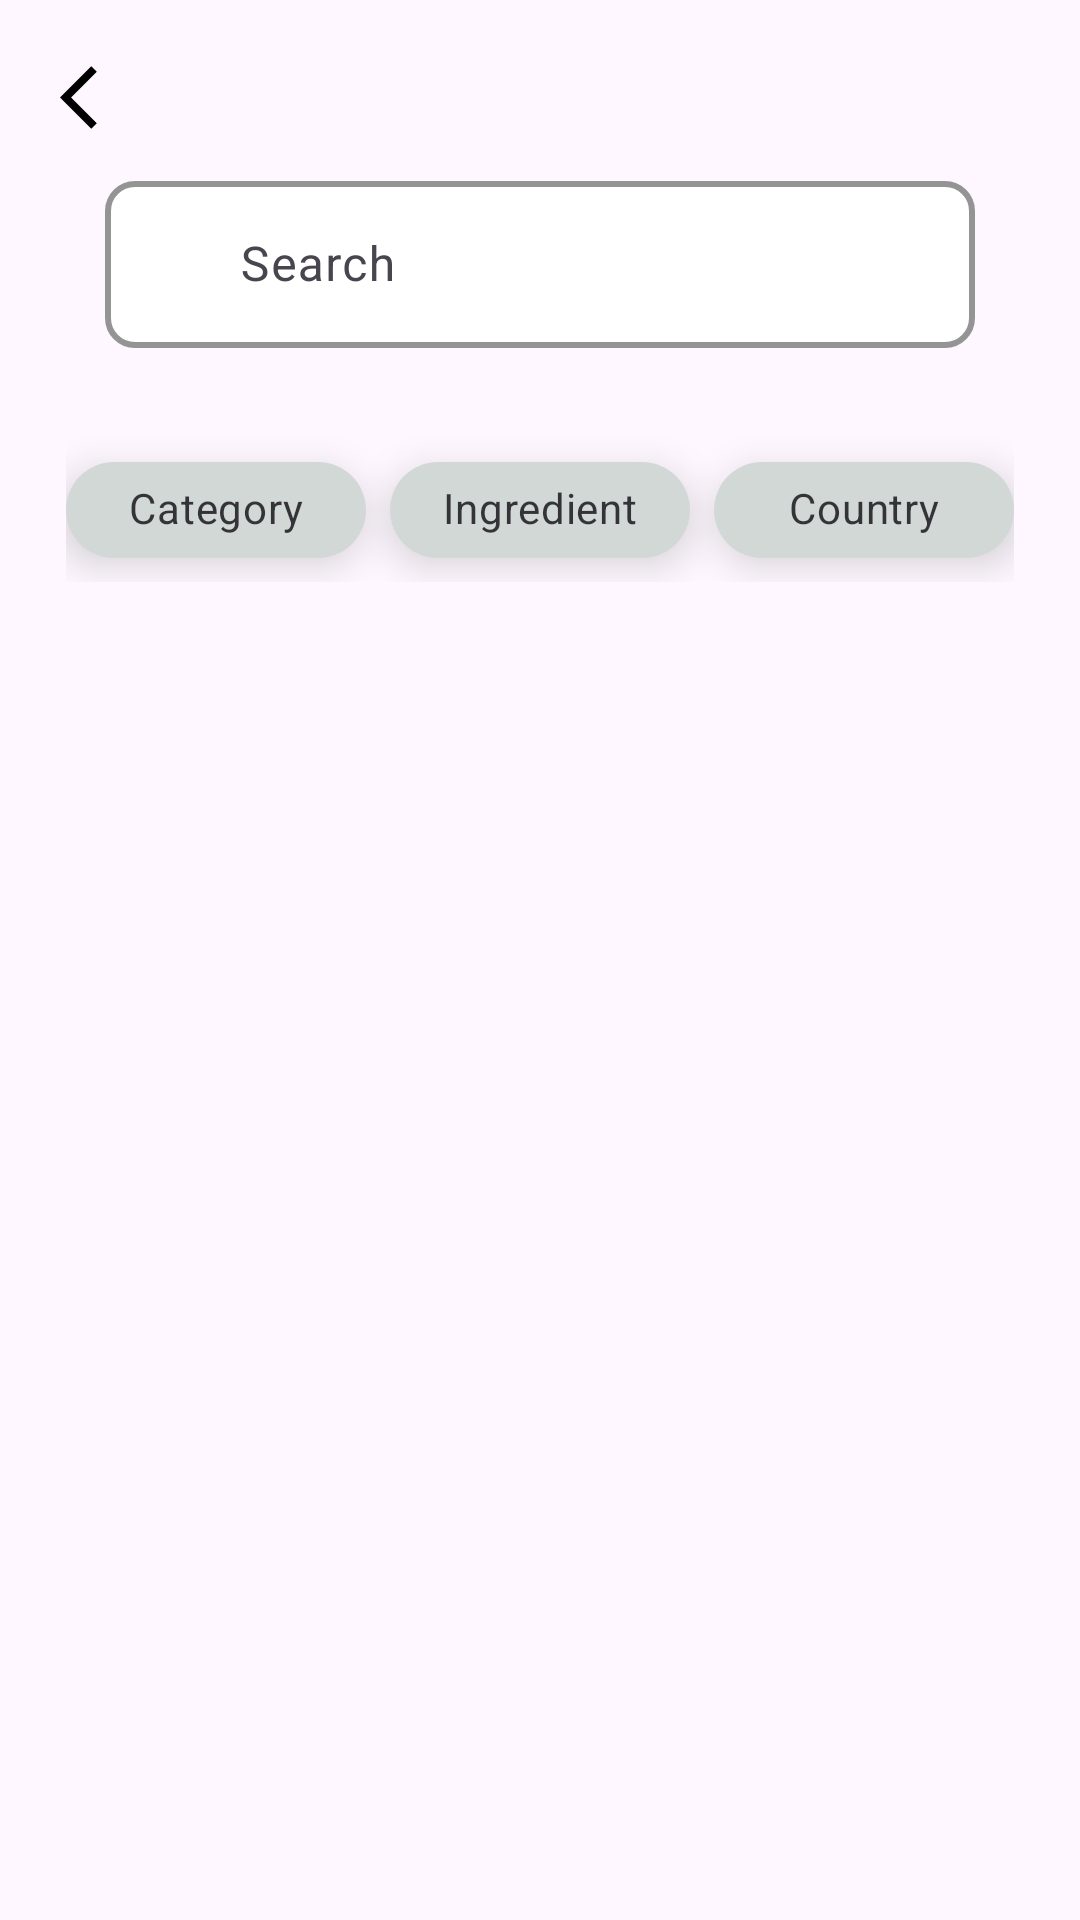

Screen size 1080 x 1920. Icon name, then its box in pixels as (x1, y1, x2, y2):
arrow back: (60, 66, 97, 129)
